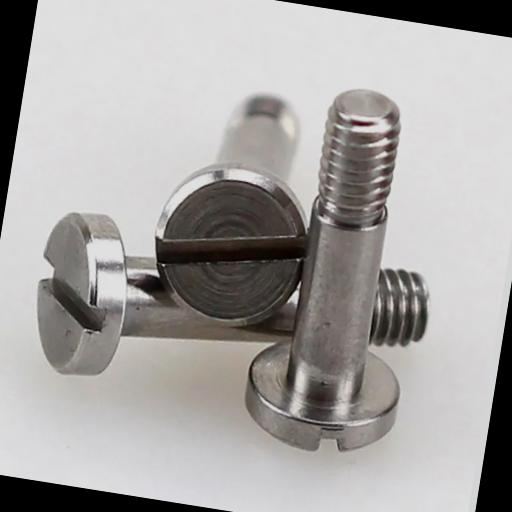Slotted: (141, 150, 320, 338)
